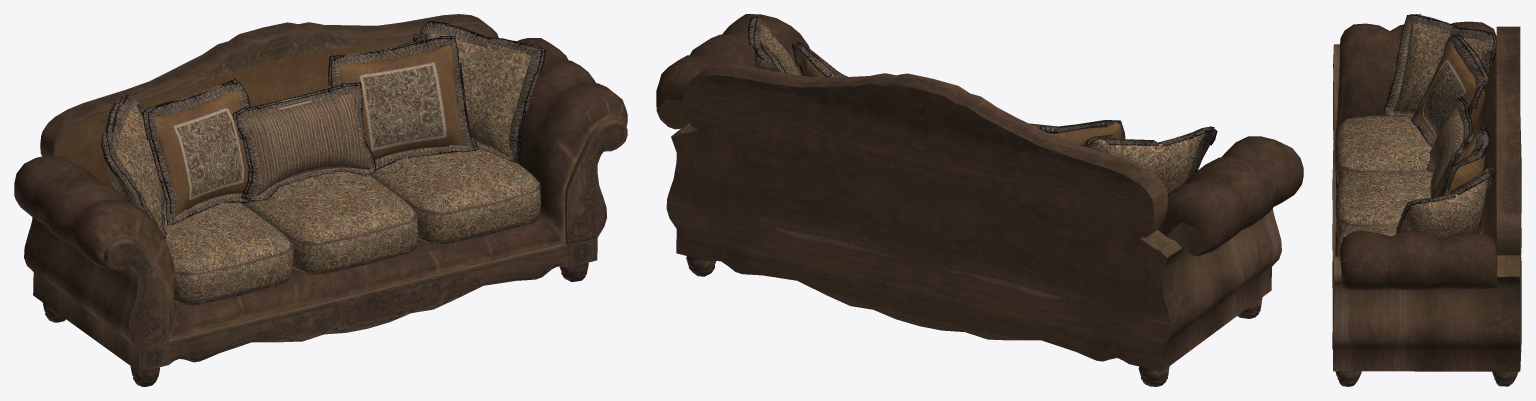
Rendered from sofa_03.gltf.
The picture shows the model from 3 angles, left to right: view 1: azimuth 30°, elevation 25°; view 2: azimuth 150°, elevation 25°; view 3: azimuth 270°, elevation 25°; orthographic projection. The views are drawn at different scales.
Visible parts, largest first — view 1: sofa_03; view 2: sofa_03; view 3: sofa_03.
Part boxes in pixels (x1,y1,x2,y2): sofa_03: [14, 14, 627, 386]; sofa_03: [656, 14, 1303, 386]; sofa_03: [1332, 14, 1521, 386].
Size of the model in its own units: 2.73 by 1.12 by 0.9251.
Materials: 2 (2 with a texture image).
